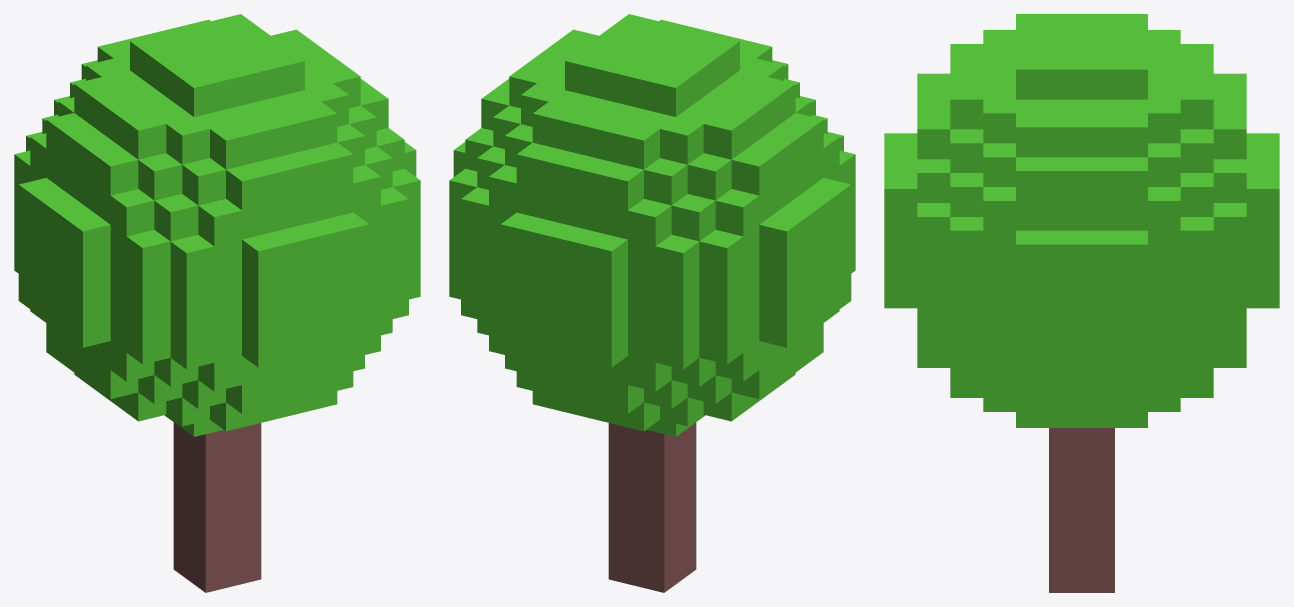
The model's file is tree_circle.obj.
The picture shows the model from 3 angles, left to right: view 1: azimuth 30°, elevation 25°; view 2: azimuth 150°, elevation 25°; view 3: azimuth 270°, elevation 25°; orthographic projection. The views are drawn at different scales.
Parts seen in each view (by area): view 1: tree_circle; view 2: tree_circle; view 3: tree_circle.
Boxes of the visible parts, x1,y1,x2,y2 form: tree_circle: (14, 14, 420, 592); tree_circle: (449, 14, 855, 592); tree_circle: (884, 14, 1279, 592).
Size of the model in its own units: 12 by 18 by 12.
Materials: 1 (1 with a texture image).
